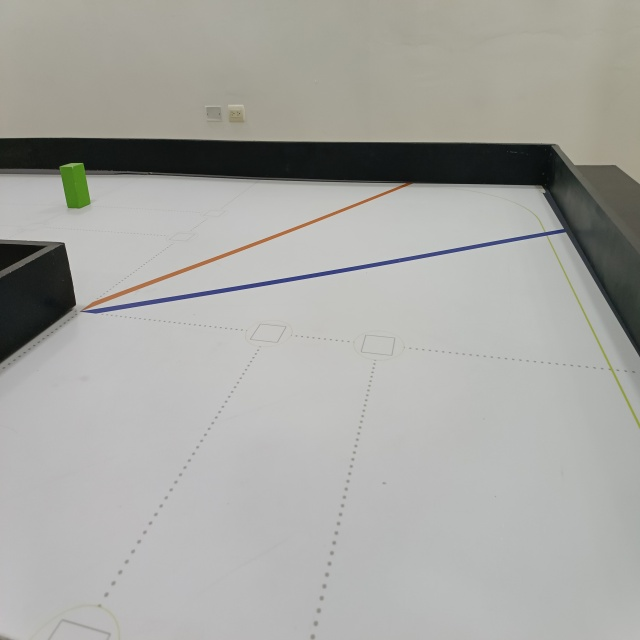blue line: (83, 224, 571, 321)
green rectangular prism: (57, 156, 95, 212)
orange line: (73, 181, 412, 314)
